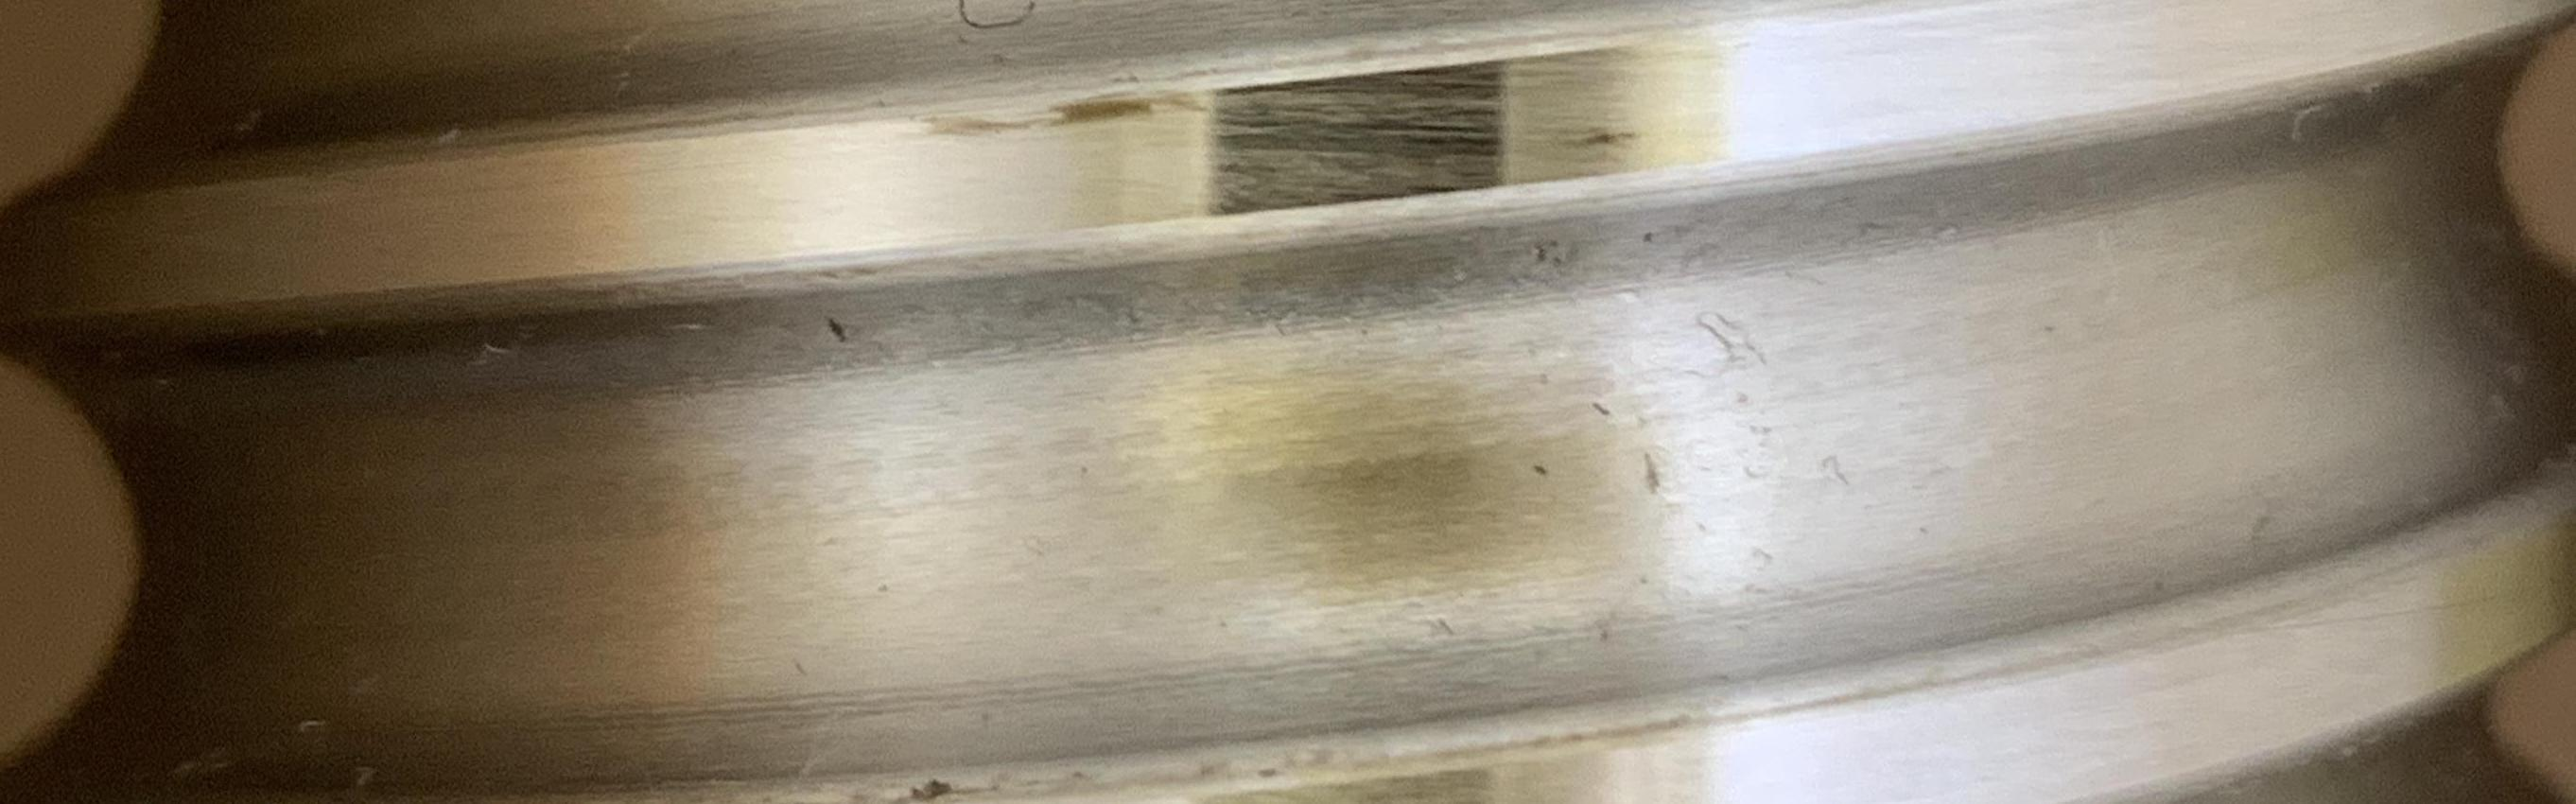pitting: (828, 317, 846, 342), (1534, 245, 1546, 261)
